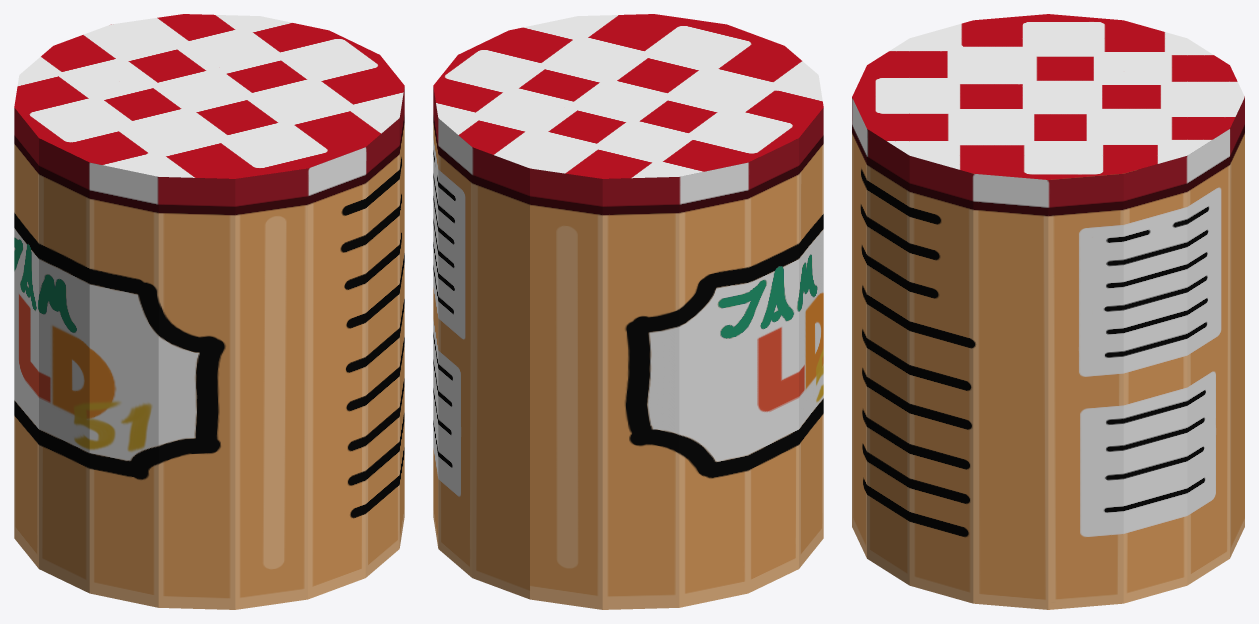
File: cylender.glb
The picture shows the model from 3 angles, left to right: view 1: azimuth 30°, elevation 25°; view 2: azimuth 150°, elevation 25°; view 3: azimuth 270°, elevation 25°; orthographic projection.
Visible parts, largest first — view 1: Cylinder; view 2: Cylinder; view 3: Cylinder.
Part boxes in pixels (x1,y1,x2,y2): Cylinder: (14,14,404,609); Cylinder: (433,14,823,609); Cylinder: (852,14,1244,609).
Size of the model in its own units: 0.809 by 0.977 by 0.809.
Materials: 1 (1 with a texture image).
